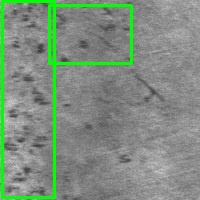rolled-in_scale: (2, 1, 54, 197), (49, 6, 131, 63)
